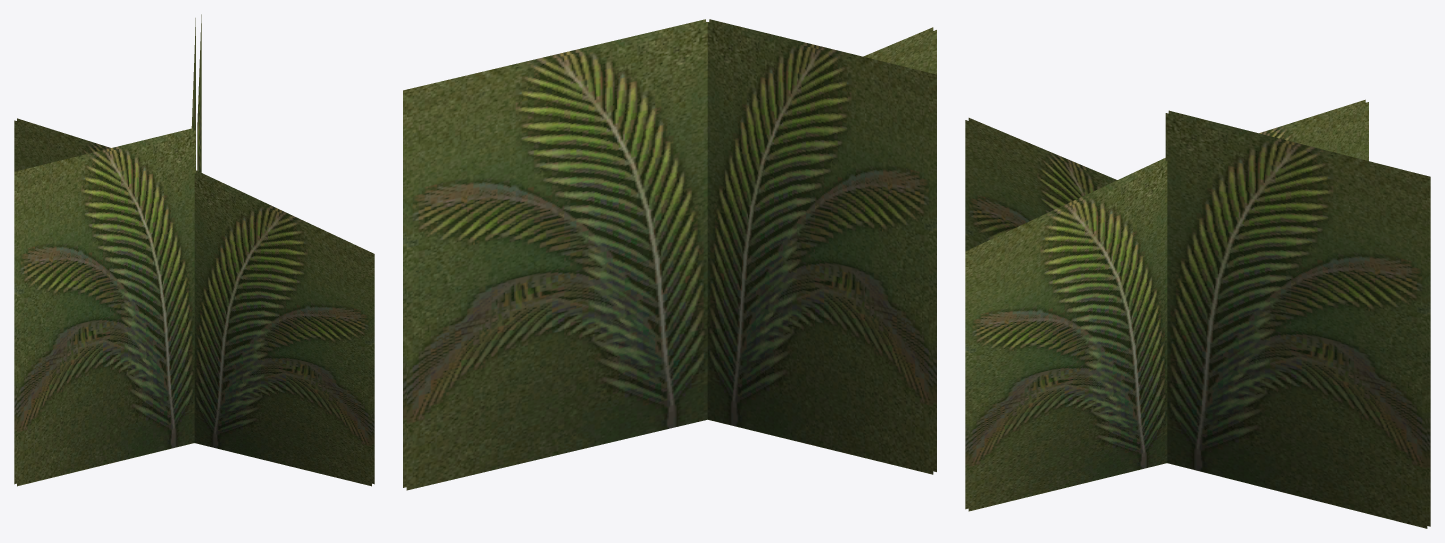
File: frst_fern_brown_jumbo1_l3.fbx
3 views of the same model, side by side, from view 1: azimuth 30°, elevation 25°; view 2: azimuth 150°, elevation 25°; view 3: azimuth 270°, elevation 25° (orthographic). The views are drawn at different scales.
Visible parts, largest first — view 1: mesh_node; view 2: mesh_node; view 3: mesh_node.
Part boxes in pixels (bbox=[...]): mesh_node: bbox=[14, 14, 374, 486]; mesh_node: bbox=[403, 19, 936, 490]; mesh_node: bbox=[965, 99, 1430, 528].
Size of the model in its own units: 2.18 by 2.16 by 2.6.
